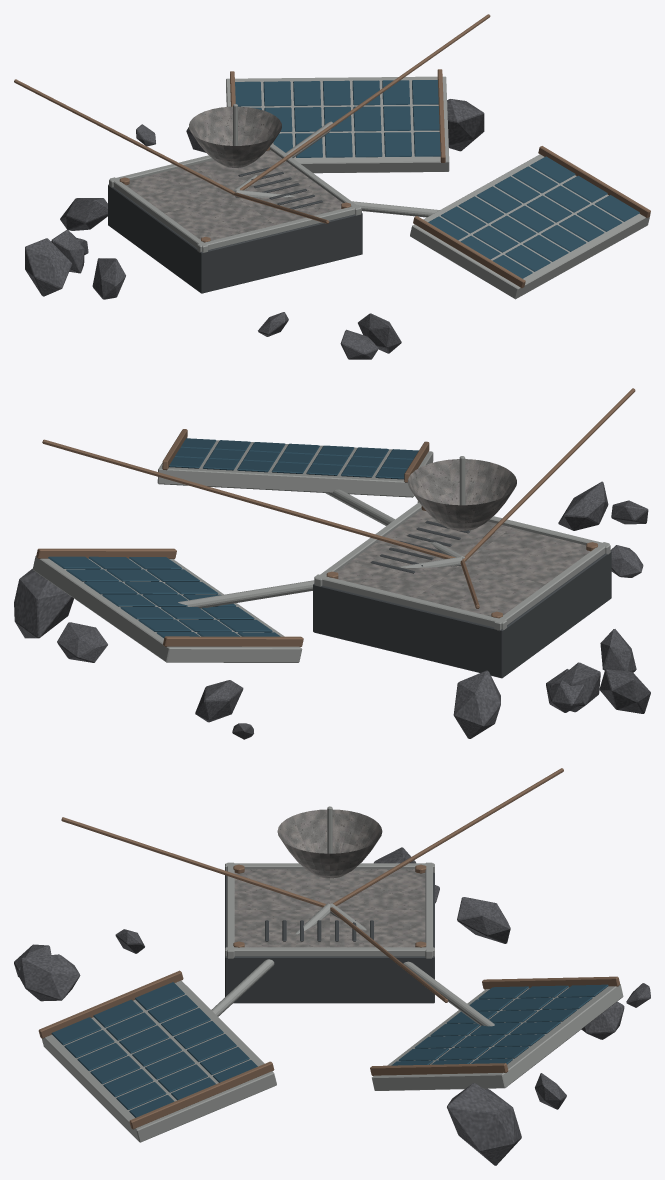
File: probe-wreck.glb
The picture shows the model from 3 angles, top to bottom: view 1: azimuth 30°, elevation 25°; view 2: azimuth 150°, elevation 25°; view 3: azimuth 270°, elevation 25°; orthographic projection. The views are drawn at different scales.
Parts seen in each view (by area): view 1: probe-wreck • editable solid geometry, Bent solar wing.001 • editable solid geometry, Bent solar wing • editable solid geometry; view 2: probe-wreck • editable solid geometry, Bent solar wing • editable solid geometry, Bent solar wing.001 • editable solid geometry; view 3: probe-wreck • editable solid geometry, Bent solar wing.001 • editable solid geometry, Bent solar wing • editable solid geometry.
Boxes of the visible parts, x1,y1,x2,y2 form: probe-wreck • editable solid geometry: (14,14,490,359); Bent solar wing.001 • editable solid geometry: (410,146,650,299); Bent solar wing • editable solid geometry: (226,69,449,173); probe-wreck • editable solid geometry: (14,388,650,739); Bent solar wing • editable solid geometry: (32,548,303,662); Bent solar wing.001 • editable solid geometry: (157,429,433,497); probe-wreck • editable solid geometry: (14,768,650,1165); Bent solar wing.001 • editable solid geometry: (38,970,276,1142); Bent solar wing • editable solid geometry: (370,976,623,1090).
Bounding box in the file's own units: 5.67 × 1.84 × 5.46.
Materials: 6 (2 with a texture image).
